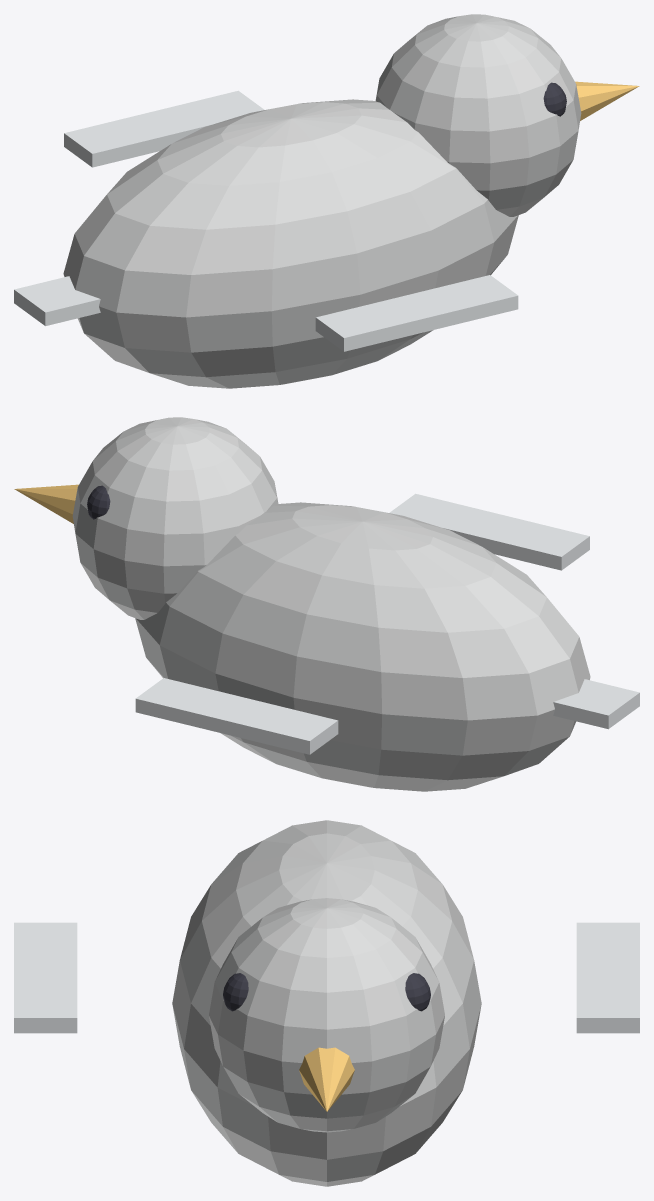
Rendered from gull.glb.
3 renders of one model, top to bottom at view 1: azimuth 30°, elevation 25°; view 2: azimuth 150°, elevation 25°; view 3: azimuth 270°, elevation 25°, orthographic. The views are drawn at different scales.
Visible parts, largest first — view 1: Body, Head, WingR, WingL, Tail, Beak, EyeR; view 2: Body, Head, WingL, WingR, Tail, Beak, EyeL; view 3: Body, Head, WingL, WingR, Beak, EyeL, EyeR.
Boxes of the visible parts, box(x1,y1,x2,y2) form: Body: box(63, 99, 518, 388); Head: box(375, 14, 581, 216); WingR: box(315, 275, 518, 351); WingL: box(64, 90, 264, 167); Tail: box(14, 276, 100, 326); Beak: box(575, 81, 639, 120); EyeR: box(543, 82, 566, 116); Body: box(135, 502, 590, 791); Head: box(72, 417, 278, 619); WingL: box(135, 678, 338, 754); WingR: box(389, 493, 589, 570); Tail: box(553, 679, 639, 729); Beak: box(14, 484, 78, 523); EyeL: box(87, 485, 110, 519); Body: box(172, 820, 481, 1186); Head: box(209, 898, 444, 1132); WingL: box(576, 922, 639, 1033); WingR: box(14, 922, 77, 1033); Beak: box(299, 1047, 354, 1111); EyeL: box(405, 973, 430, 1011); EyeR: box(223, 973, 248, 1011).
Size of the model in its own units: 0.28 by 0.132 by 0.2225.
